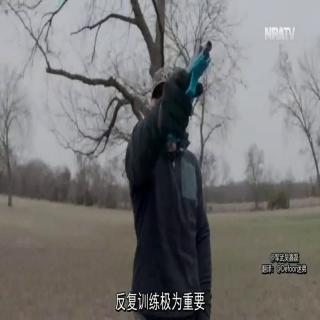gun: (166, 35, 216, 146)
